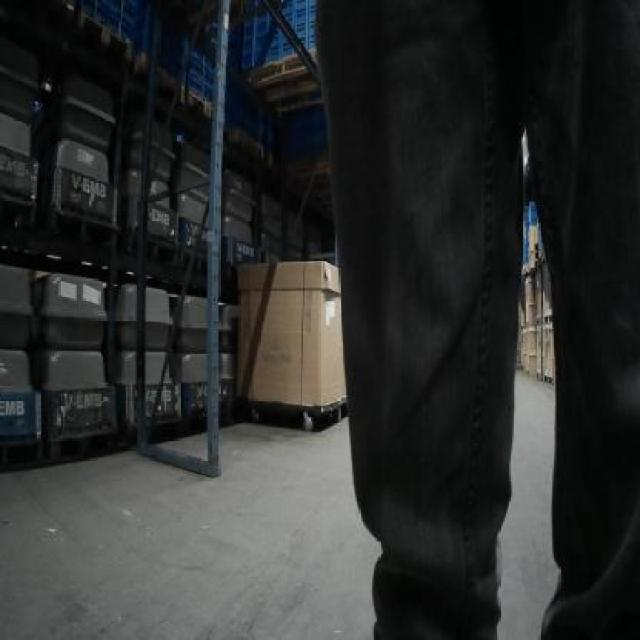ground: (0, 419, 377, 638), (497, 371, 560, 638)
pallet: (232, 393, 353, 435), (43, 201, 122, 253), (48, 424, 126, 466), (0, 189, 42, 232), (0, 438, 47, 467)
